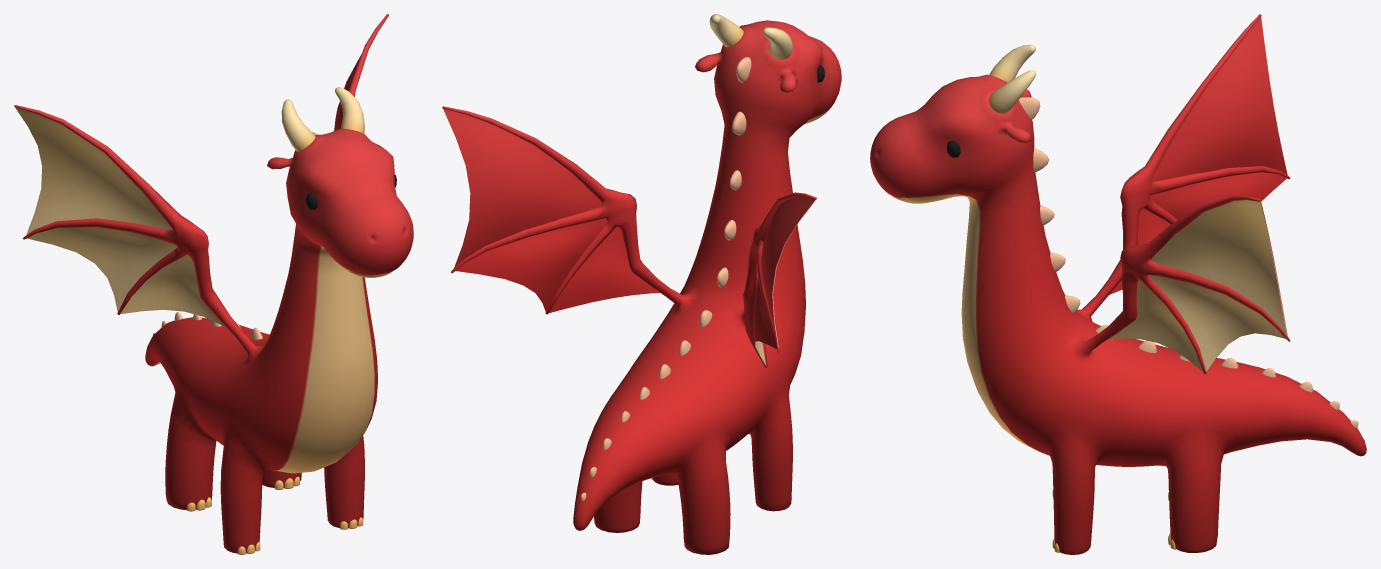
File: Dragon.FBX
3 views of the same model, side by side, from view 1: azimuth 30°, elevation 25°; view 2: azimuth 150°, elevation 25°; view 3: azimuth 270°, elevation 25° (orthographic).
Parts seen in each view (by area): view 1: Dragon; view 2: Dragon; view 3: Dragon.
Boxes of the visible parts, <box> form: Dragon: <box>14,14,413,554</box>; Dragon: <box>442,14,841,554</box>; Dragon: <box>870,14,1366,554</box>.
Bounding box in the file's own units: 157 × 182 × 177.
1 material, 1 textured.
